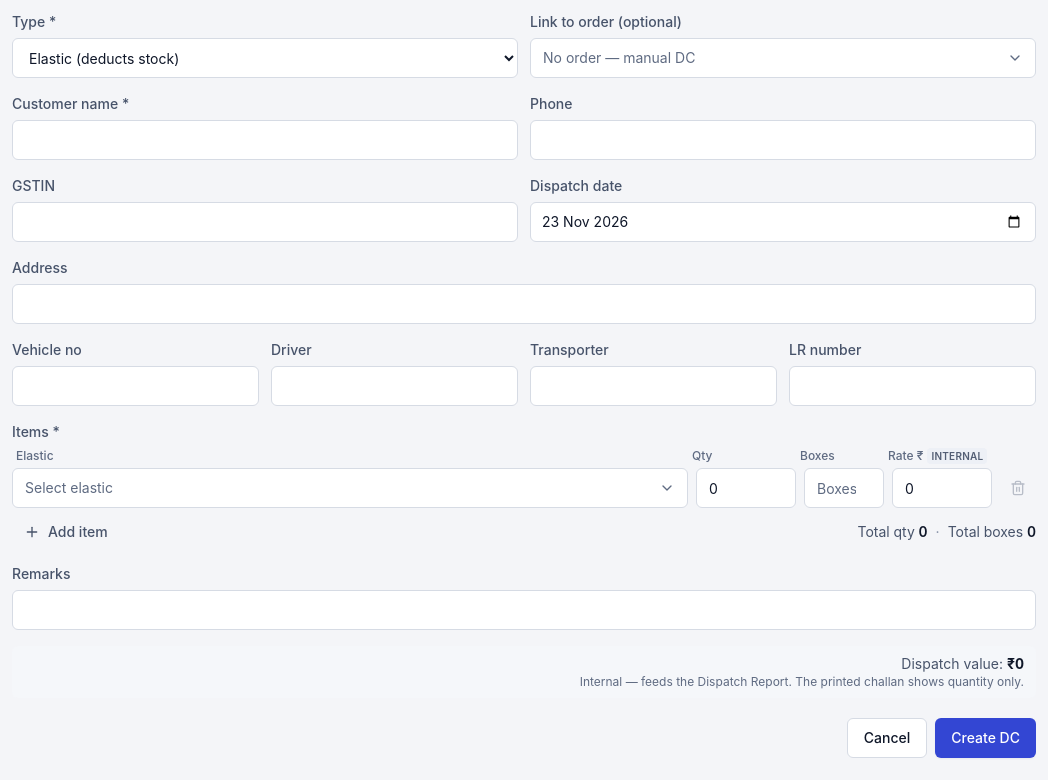
Scenario: the elastic on a line › blocks submission when no elastic has been chosen
Type "Ravi Textiles" into the field labelled "Customer name *" at (265, 140), box [12,120,518,160]
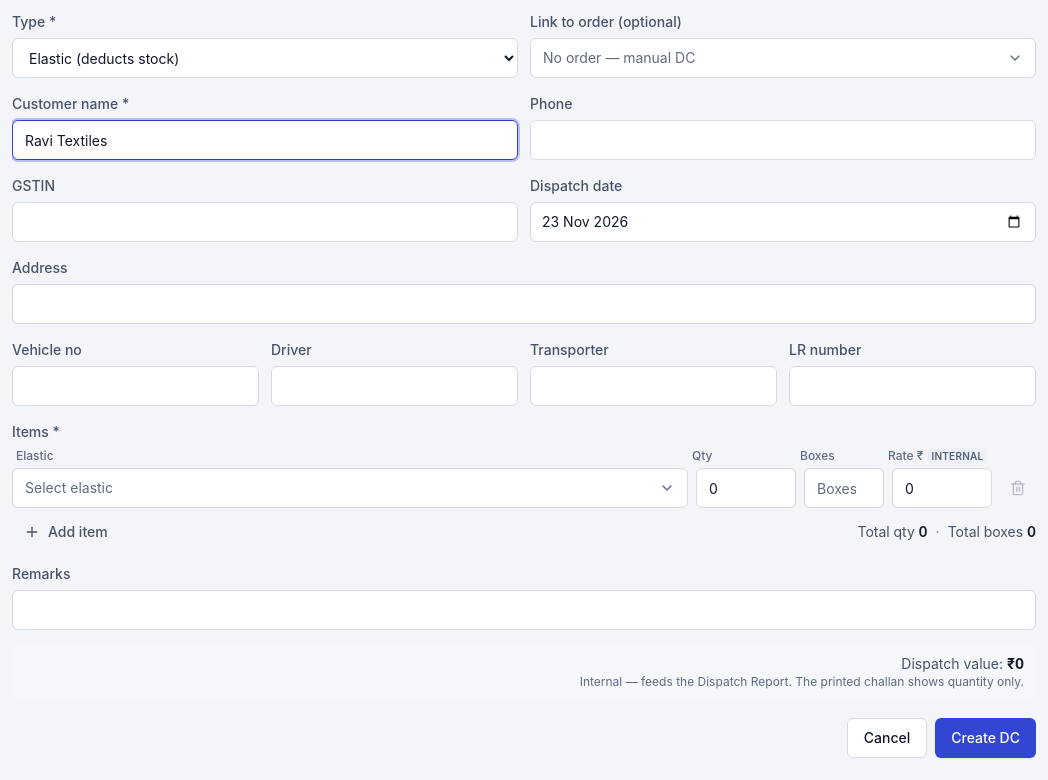
Type "400" into the number field named "quantity" at (746, 488), box [696,468,796,508]
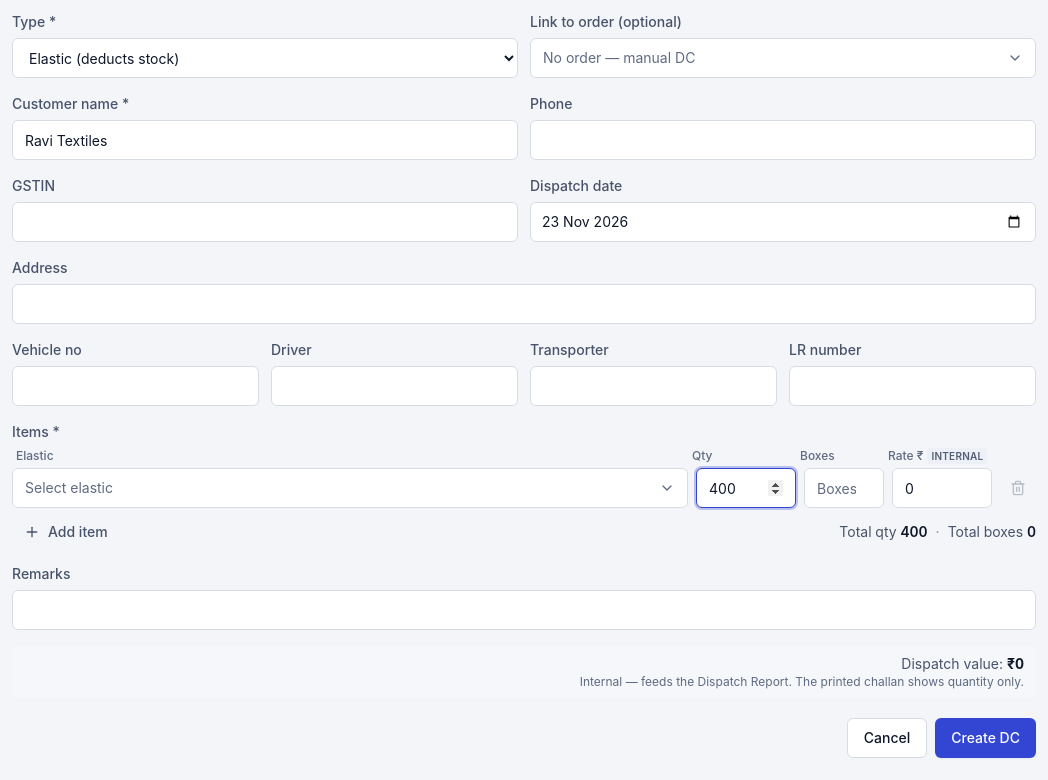
Click the button "Create DC" at (986, 738), box [935,718,1036,758]
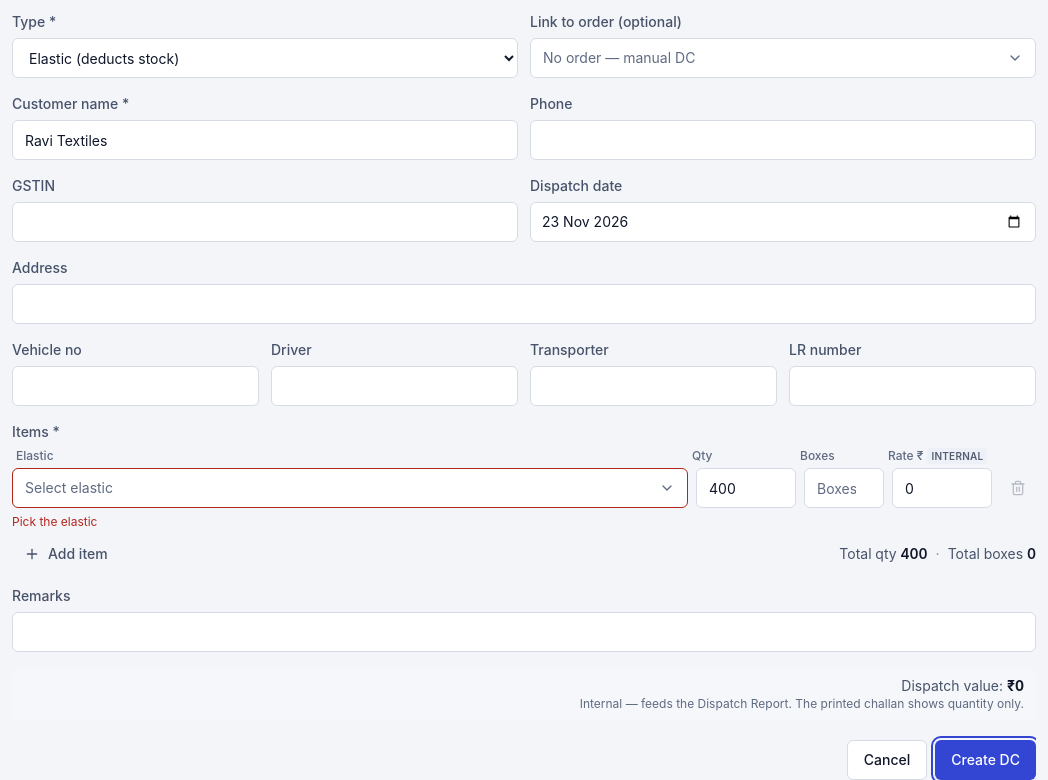
Check: the text "Pick the elastic" is shown, box [12,514,98,529]
